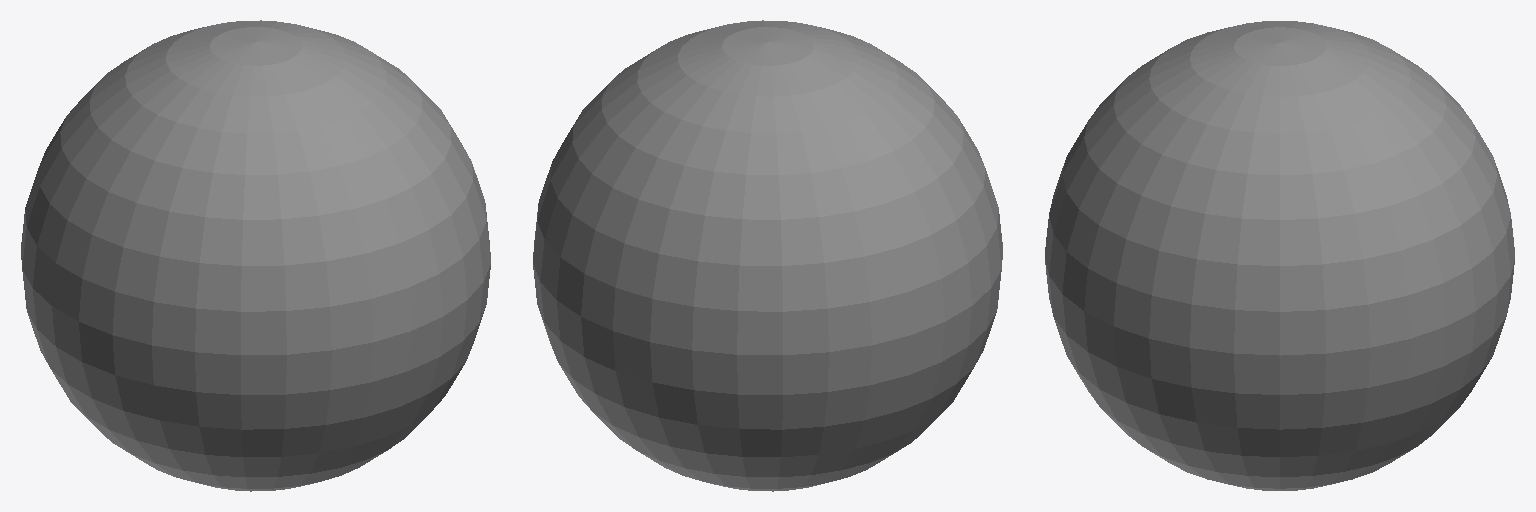
URDF robot description (sphere_15mm):
<?xml version="1.0"?>
<robot name="sphere_15mm">
  <!-- Dimensions are in metres: 15 mm diameter, 7.5 mm radius. -->
  <link name="sphere">
    <visual>
      <geometry>
        <sphere radius="0.0075"/>
      </geometry>
      <material name="sphere_gray">
        <color rgba="0.6 0.6 0.6 1.0"/>
      </material>
    </visual>

    <collision>
      <geometry>
        <sphere radius="0.0075"/>
      </geometry>
    </collision>
  </link>
</robot>

--- Render facts (derived) ---
The picture shows the robot from 3 angles, left to right: view 1: azimuth 30°, elevation 25°; view 2: azimuth 150°, elevation 25°; view 3: azimuth 270°, elevation 25°; orthographic projection.
Robot: sphere_15mm — 1 links, 0 joints (none); root link sphere; default pose: every joint at zero.
Links seen in each view (by area): view 1: sphere; view 2: sphere; view 3: sphere.
Boxes of the visible links, x1,y1,x2,y2 form: sphere: (21,20,490,491); sphere: (533,20,1002,491); sphere: (1045,21,1514,490).
Size in the robot's own frame: 0.015 by 0.015 by 0.015 metres.
Geometry: primitives only (box / cylinder / sphere), no mesh files.
